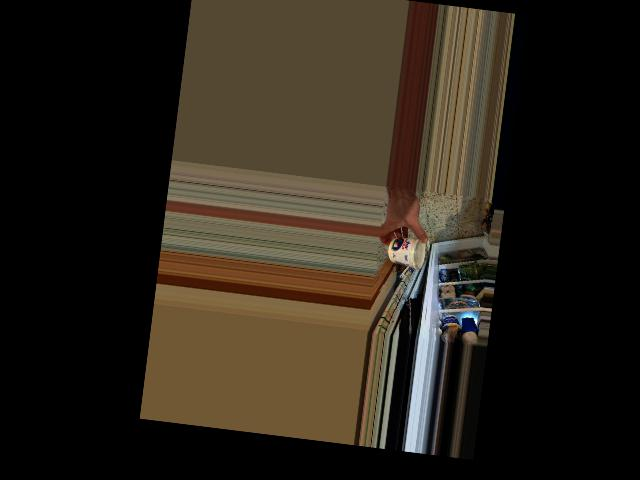cotage: (384, 232, 427, 270)
